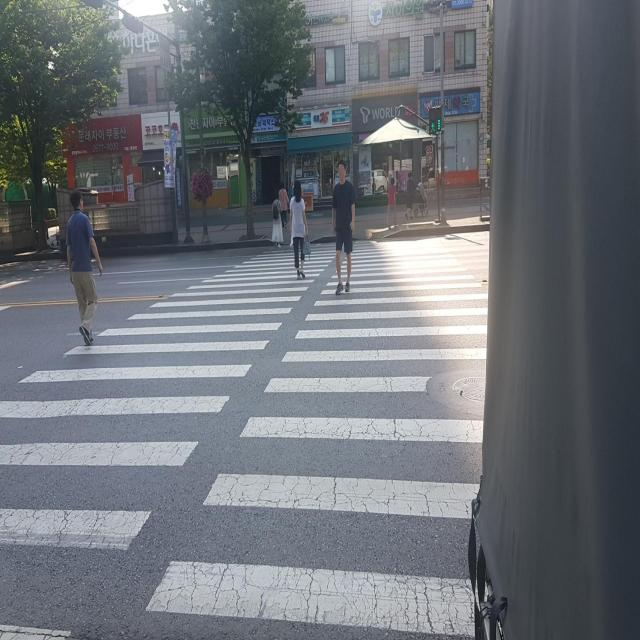초록불: (428, 104, 442, 135), (429, 106, 442, 135)
횡단보도: (0, 221, 640, 640)
